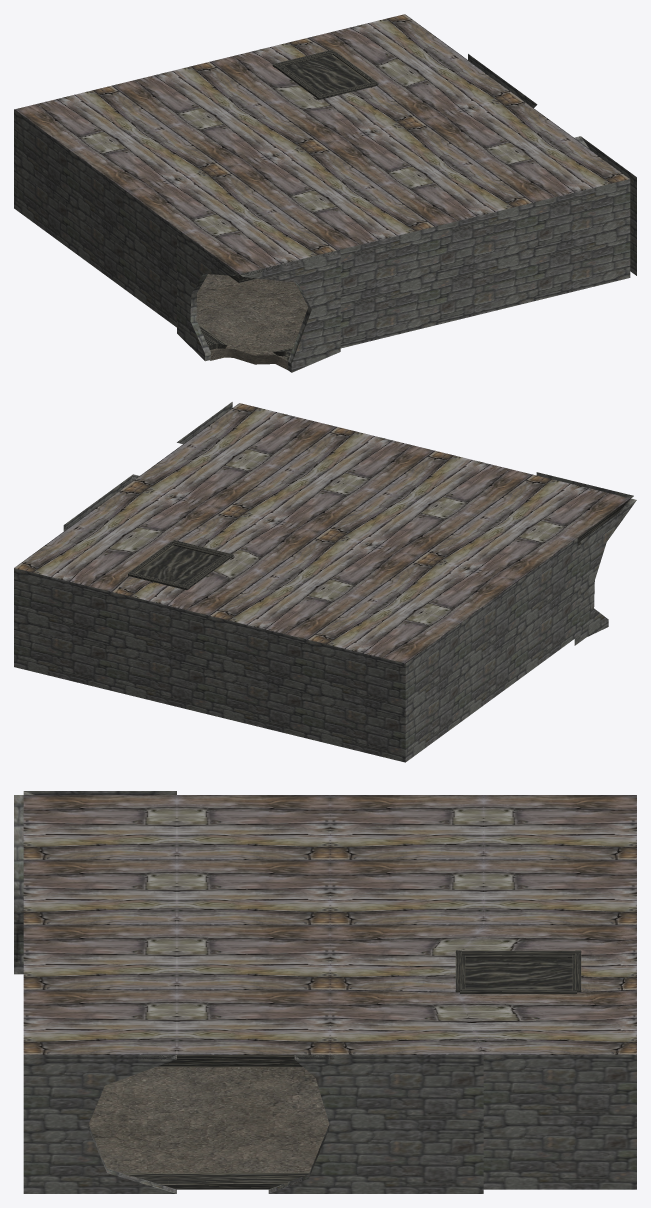
File: pir_m_int_shn_cellar_caves.fbx
3 views of the same model, one above another, from view 1: azimuth 30°, elevation 25°; view 2: azimuth 150°, elevation 25°; view 3: azimuth 270°, elevation 25° (orthographic). The views are drawn at different scales.
Parts seen in each view (by area): view 1: ceiling, walls, floor, door, doorHoleFrame, wallSupport; view 2: ceiling, walls, door, doorHoleFrame; view 3: ceiling, walls, floor, door, wallSupport, doorHoleFrame.
Part boxes in pixels (box(x1,y1,x2,y2)): ceiling: box(14, 14, 629, 274); walls: box(14, 54, 636, 372); floor: box(196, 274, 308, 369); door: box(280, 51, 378, 94); doorHoleFrame: box(272, 50, 378, 99); wallSupport: box(194, 244, 334, 360); ceiling: box(14, 403, 630, 663); walls: box(14, 402, 636, 762); door: box(128, 541, 225, 585); doorHoleFrame: box(128, 540, 233, 590); ceiling: box(23, 795, 636, 1054); walls: box(14, 791, 636, 1193); floor: box(88, 1067, 329, 1173); door: box(460, 954, 576, 993); wallSupport: box(122, 1055, 334, 1189); doorHoleFrame: box(455, 950, 581, 992).
Bounding box in the file's own units: 5654 × 1472 × 5549.
Materials: 3 (3 with a texture image).
